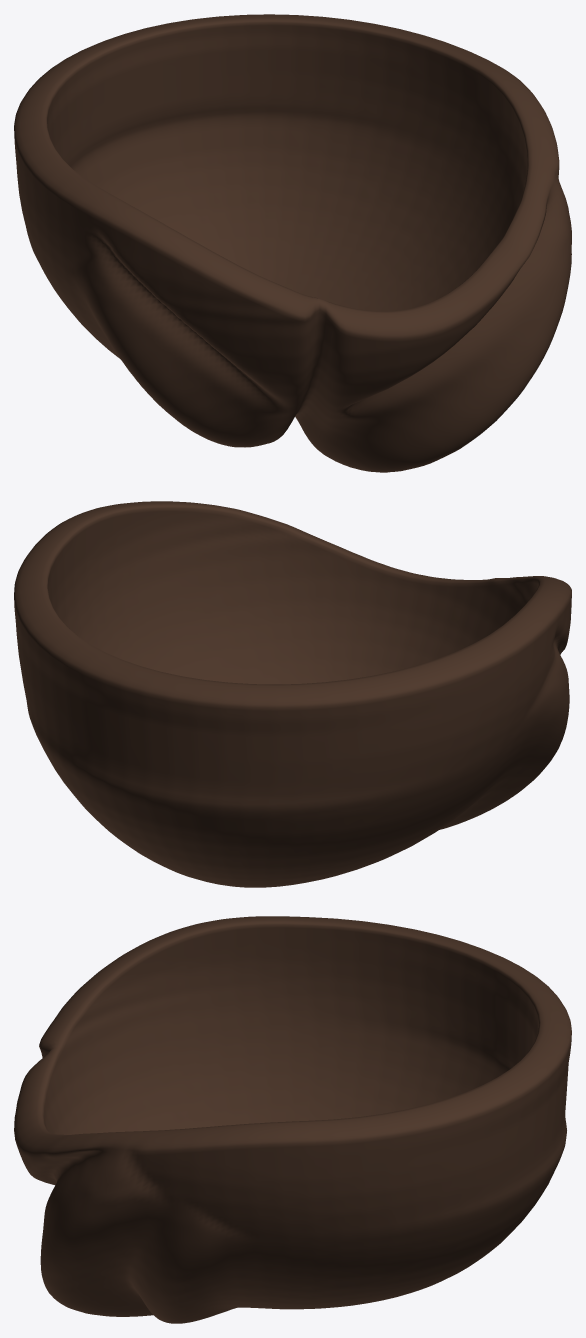
Rendered from cap-wave.obj.
3 views of the same model, one above another, from view 1: azimuth 30°, elevation 25°; view 2: azimuth 150°, elevation 25°; view 3: azimuth 270°, elevation 25° (orthographic). The views are drawn at different scales.
Bounding box in the file's own units: 173 × 104 × 181.
